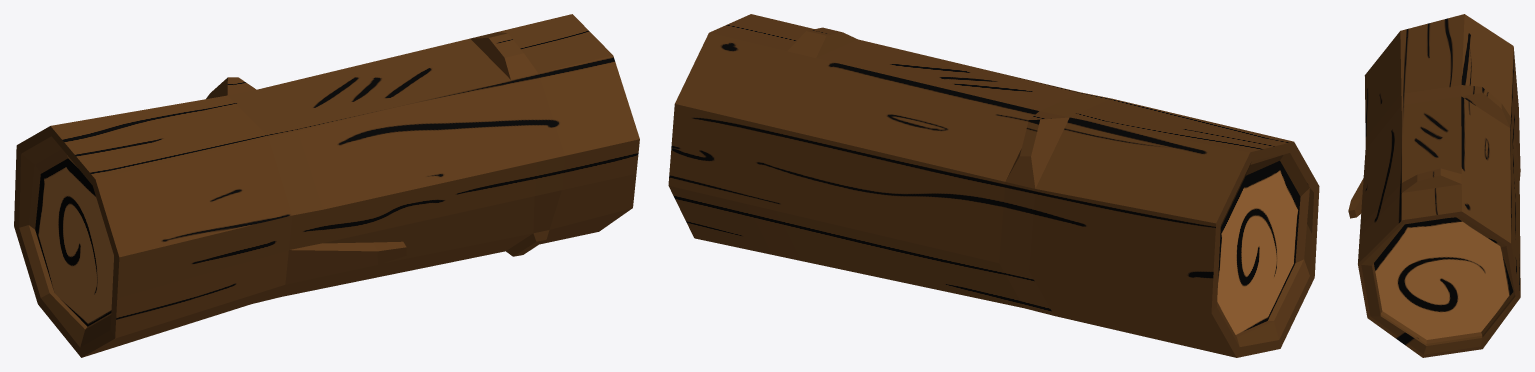
Rendered from SM_Log_Big_1.fbx.
3 views of the same model, side by side, from view 1: azimuth 30°, elevation 25°; view 2: azimuth 150°, elevation 25°; view 3: azimuth 270°, elevation 25° (orthographic). The views are drawn at different scales.
Parts seen in each view (by area): view 1: SM_Log_Big_1; view 2: SM_Log_Big_1; view 3: SM_Log_Big_1.
Part boxes in pixels (x1,y1,x2,y2): SM_Log_Big_1: (14, 14, 639, 357); SM_Log_Big_1: (668, 14, 1319, 357); SM_Log_Big_1: (1348, 14, 1520, 357).
Bounding box in the file's own units: 8.86 × 3.44 × 3.45.
